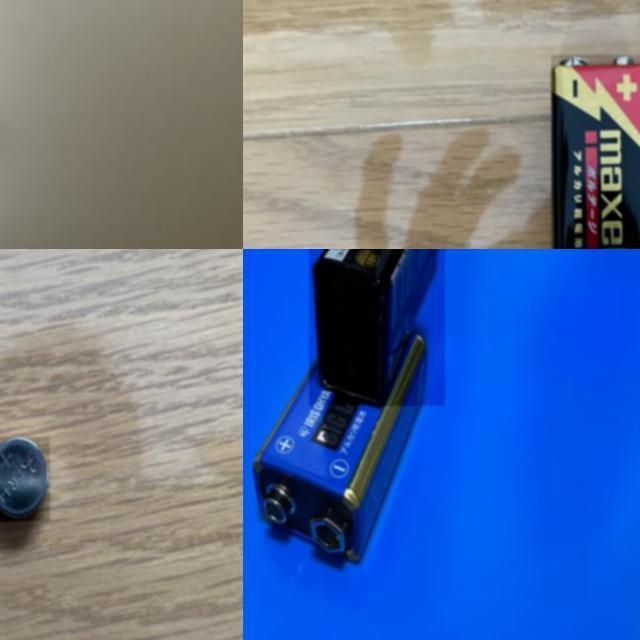9V: (251, 333, 428, 569), (309, 249, 445, 406), (551, 54, 640, 249)
